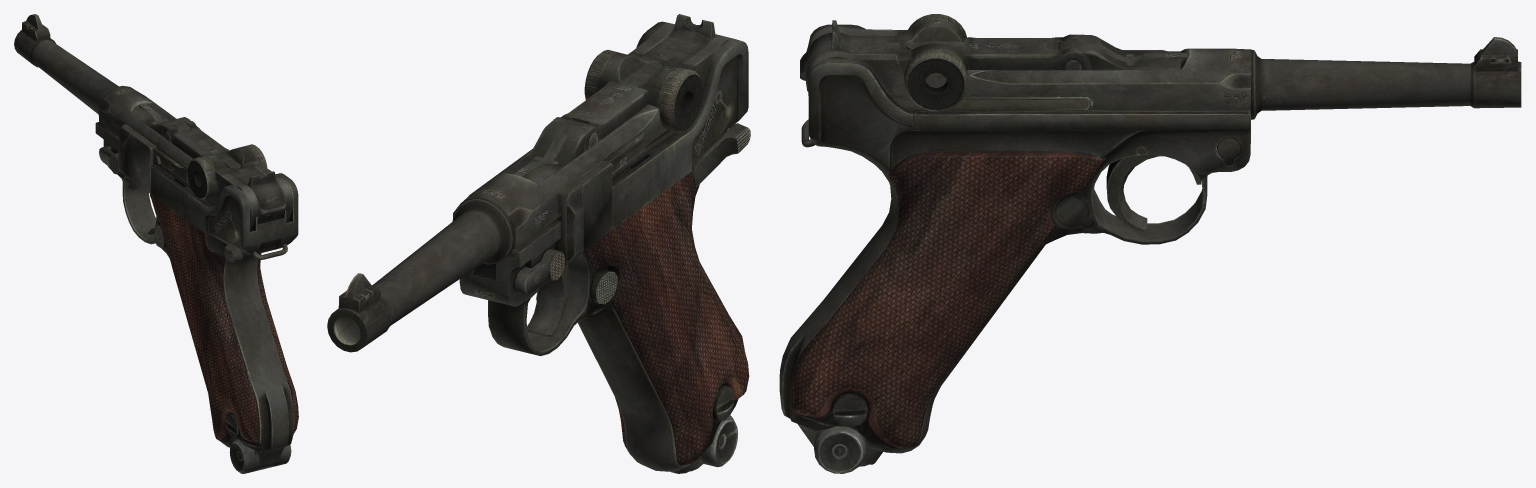
Rendered from Luger_P08.FBX.
The picture shows the model from 3 angles, left to right: view 1: azimuth 30°, elevation 25°; view 2: azimuth 150°, elevation 25°; view 3: azimuth 270°, elevation 25°; orthographic projection. The views are drawn at different scales.
Parts seen in each view (by area): view 1: mauserP08luger_fp; view 2: mauserP08luger_fp; view 3: mauserP08luger_fp.
Part boxes in pixels (<box>): mauserP08luger_fp: <box>14,14,298,473</box>; mauserP08luger_fp: <box>327,14,750,473</box>; mauserP08luger_fp: <box>779,14,1521,473</box>.
Bounding box in the file's own units: 0.0454 × 0.2007 × 0.3117.
